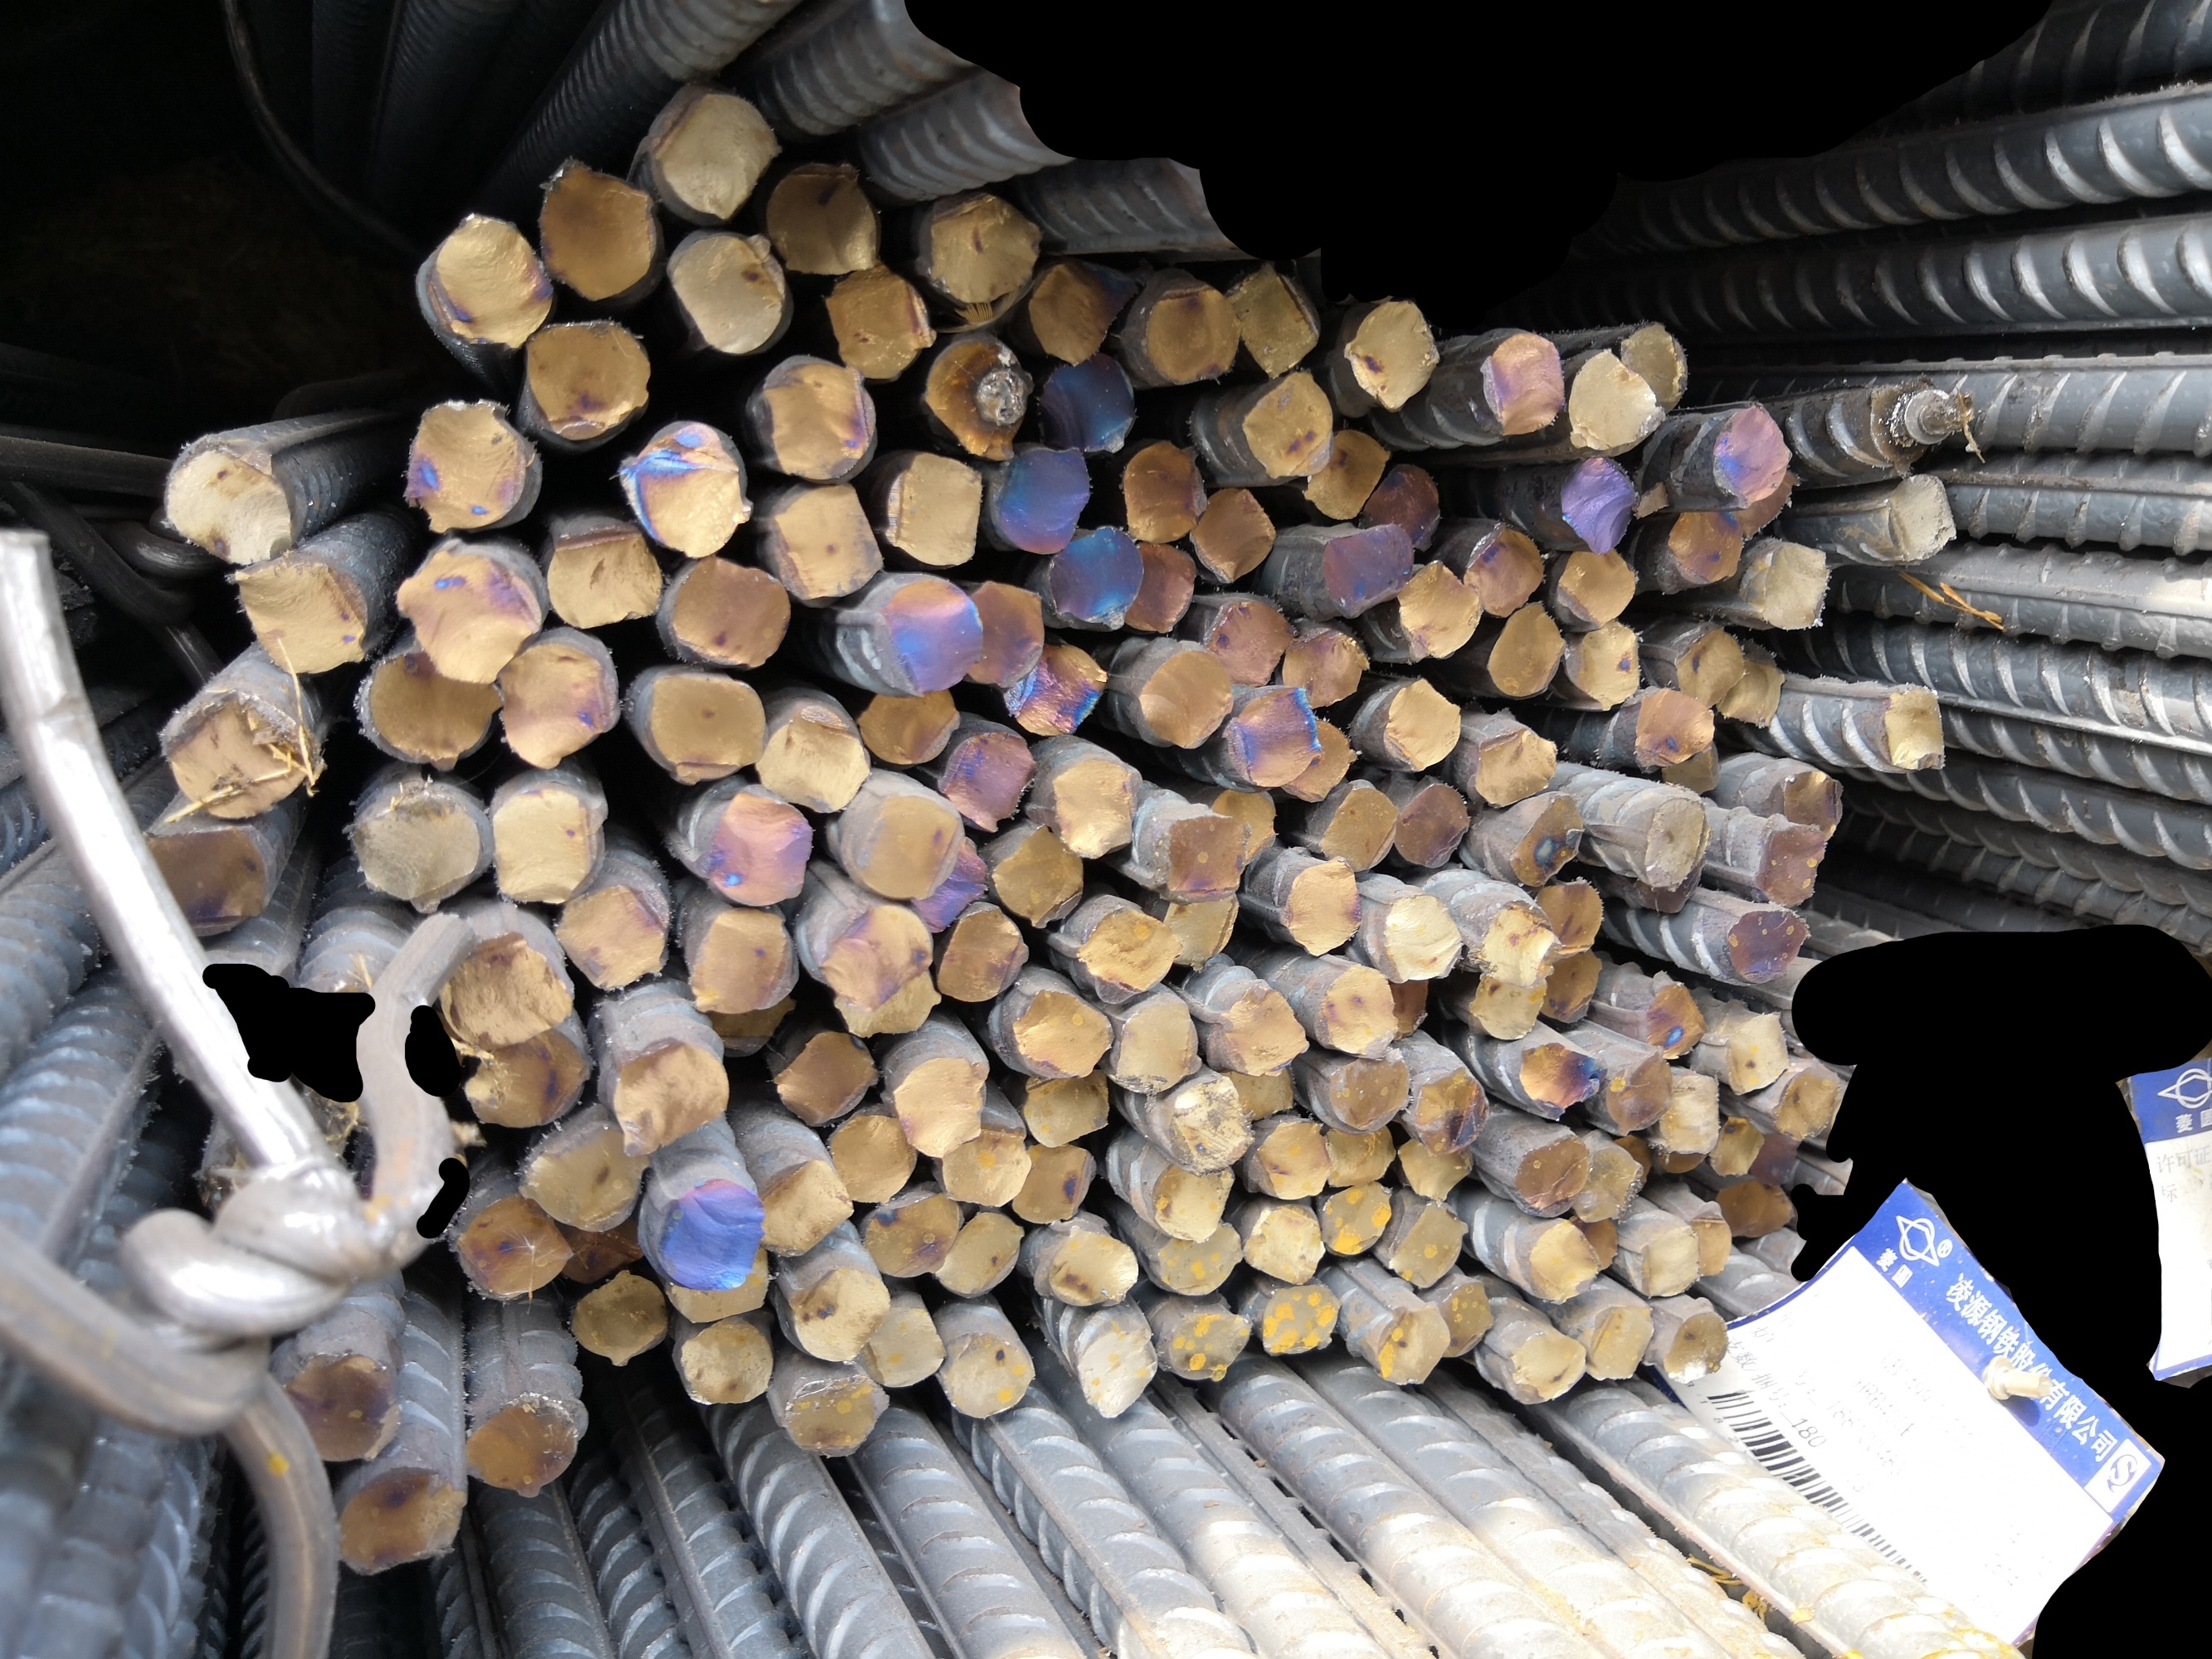rebar: (392, 540, 547, 685), (159, 688, 312, 821), (617, 420, 760, 556), (422, 209, 554, 356), (647, 85, 783, 225), (533, 157, 657, 303), (401, 397, 532, 535), (159, 439, 296, 568), (359, 648, 507, 767), (350, 784, 483, 917), (225, 559, 371, 676), (514, 319, 654, 441), (134, 821, 272, 943), (436, 931, 577, 1049), (664, 225, 790, 356), (605, 1032, 732, 1157), (495, 640, 612, 775), (758, 357, 880, 486), (483, 782, 603, 913), (641, 669, 767, 791), (816, 258, 938, 383), (664, 556, 795, 673), (763, 479, 885, 603), (336, 1464, 467, 1579), (519, 1121, 650, 1234), (763, 155, 882, 279), (455, 1028, 601, 1127), (868, 577, 988, 697), (926, 335, 1035, 465), (647, 1175, 770, 1290), (697, 789, 814, 910), (926, 192, 1044, 308), (279, 1349, 401, 1462), (540, 519, 666, 629), (1027, 249, 1140, 369), (755, 701, 870, 816), (689, 897, 800, 1016), (446, 1195, 573, 1298), (553, 884, 671, 993), (818, 901, 933, 1012), (880, 446, 985, 568), (852, 793, 967, 903), (988, 437, 1091, 559), (885, 1047, 995, 1161), (1032, 521, 1142, 634), (460, 1394, 579, 1499), (1213, 683, 1327, 791), (1232, 369, 1337, 483), (765, 1026, 882, 1127), (1222, 263, 1321, 382), (1133, 641, 1239, 751), (934, 725, 1039, 836), (1344, 296, 1440, 416), (781, 1262, 891, 1366), (1142, 277, 1243, 389), (1002, 638, 1107, 744), (985, 823, 1088, 931), (1037, 352, 1145, 455), (1074, 906, 1182, 1007), (1006, 985, 1117, 1082), (1116, 434, 1210, 549), (755, 1154, 856, 1258), (1311, 519, 1417, 619), (933, 903, 1032, 1007), (777, 1370, 894, 1459), (933, 1324, 1039, 1422), (568, 1267, 669, 1368), (1184, 479, 1276, 589), (1391, 559, 1487, 664), (1571, 345, 1666, 450), (1192, 598, 1302, 688), (1046, 753, 1135, 863), (1110, 995, 1208, 1094), (1480, 331, 1567, 441), (1159, 1079, 1259, 1175), (1112, 535, 1203, 640), (826, 1110, 922, 1208), (1154, 810, 1253, 904), (675, 1314, 776, 1406), (1865, 375, 1951, 481), (905, 836, 997, 934), (962, 580, 1044, 690), (858, 1190, 959, 1279), (1311, 962, 1400, 1063), (1304, 425, 1393, 526), (856, 681, 960, 767), (1712, 401, 1795, 507), (1558, 446, 1640, 554), (934, 1121, 1034, 1209), (1042, 1225, 1143, 1312), (1279, 620, 1374, 713), (1499, 795, 1591, 889), (1222, 981, 1313, 1077), (664, 1251, 783, 1324), (1482, 599, 1569, 699), (1279, 859, 1365, 960), (1142, 1157, 1239, 1244), (1459, 519, 1544, 619), (936, 1206, 1025, 1300), (1471, 899, 1565, 988), (1020, 1061, 1114, 1148), (1072, 1326, 1159, 1420), (1719, 899, 1815, 985), (1877, 471, 1963, 566), (1388, 1192, 1471, 1290), (1386, 774, 1469, 871), (1752, 537, 1835, 634), (1009, 1138, 1102, 1225), (1468, 725, 1560, 812), (1513, 1035, 1600, 1127), (1316, 781, 1400, 877), (1382, 674, 1462, 774), (1361, 462, 1449, 552), (1203, 779, 1285, 875), (1564, 615, 1645, 711), (858, 1304, 947, 1391), (1382, 890, 1466, 983), (1630, 685, 1722, 769), (837, 964, 941, 1037), (1518, 1218, 1605, 1305), (1642, 791, 1717, 890), (1321, 1049, 1410, 1133), (1616, 317, 1691, 415), (1876, 680, 1949, 779), (1253, 1279, 1344, 1359), (1503, 1328, 1593, 1408), (1374, 1298, 1452, 1391), (1159, 885, 1243, 971), (1250, 1117, 1335, 1201), (1511, 1133, 1593, 1220), (1555, 545, 1642, 626), (1239, 1206, 1328, 1284), (1414, 1066, 1489, 1159), (1673, 617, 1745, 713), (1578, 1298, 1654, 1387), (1152, 1225, 1245, 1298), (1523, 877, 1607, 957), (1665, 502, 1743, 587), (704, 988, 800, 1058), (1168, 1309, 1255, 1385), (1285, 718, 1361, 803), (1754, 821, 1829, 908), (558, 1216, 650, 1286), (1469, 967, 1551, 1046), (1658, 1068, 1727, 1159), (1316, 1178, 1393, 1260), (1318, 1115, 1398, 1192), (1578, 1136, 1645, 1225), (1426, 1277, 1496, 1363), (1532, 950, 1607, 1028), (1658, 1309, 1731, 1389), (1600, 1054, 1673, 1133), (1722, 1009, 1788, 1094), (1715, 655, 1788, 732), (1626, 1222, 1700, 1298), (1400, 1131, 1473, 1204), (1645, 981, 1708, 1066), (1778, 769, 1849, 842), (1731, 462, 1797, 540), (1771, 1063, 1835, 1141), (1218, 1060, 1300, 1121), (1637, 854, 1713, 917), (1661, 734, 1727, 798), (1684, 1208, 1736, 1284), (1571, 1209, 1625, 1277), (1384, 971, 1431, 1040), (1706, 1117, 1761, 1176), (1743, 1182, 1794, 1243), (1710, 1182, 1762, 1239), (1609, 1126, 1654, 1192), (1750, 1129, 1801, 1187), (1659, 1140, 1710, 1176)
